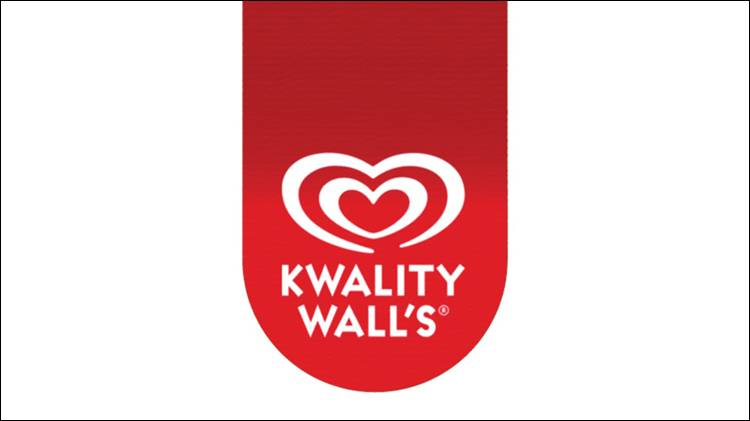Kwality_Walls: (280, 144, 477, 255)
